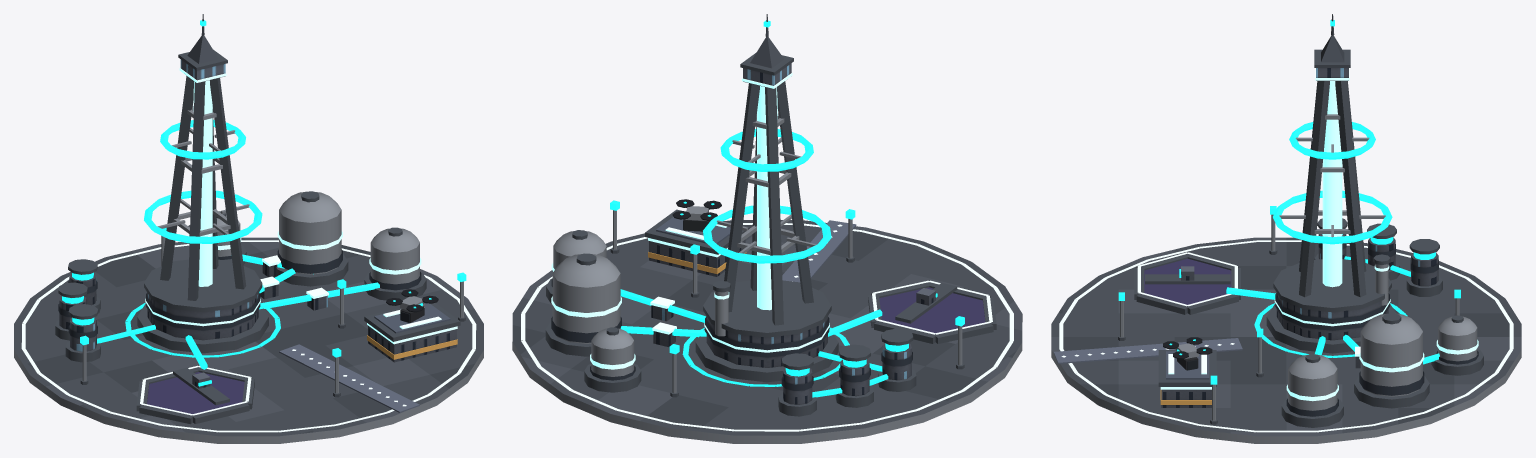
File: oil_l4.glb
3 renders of one model, left to right at view 1: azimuth 30°, elevation 25°; view 2: azimuth 150°, elevation 25°; view 3: azimuth 270°, elevation 25°, orthographic. The views are drawn at different scales.
Visible parts, largest first — view 1: oil_l4; view 2: oil_l4; view 3: oil_l4.
Part boxes in pixels (x1,y1,x2,y2): oil_l4: (14, 14, 483, 443); oil_l4: (512, 14, 1022, 443); oil_l4: (1051, 14, 1521, 443).
Size of the model in its own units: 1.43 by 1.07 by 1.43.
Materials: 5 (1 with a texture image).
